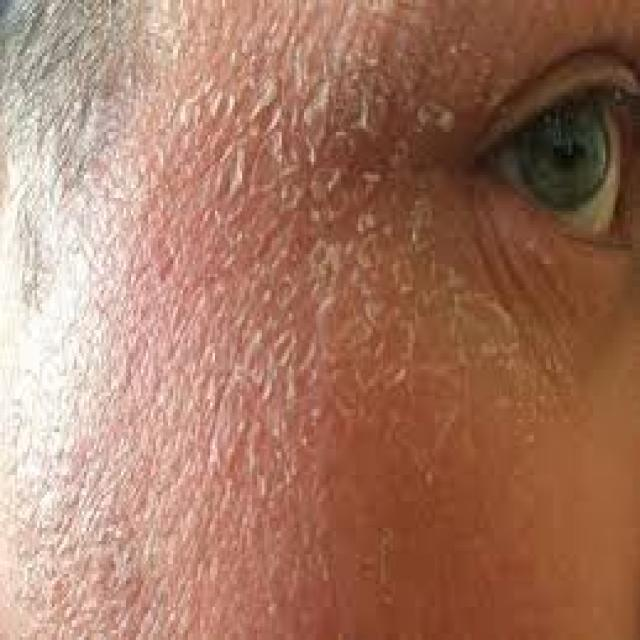Dry-Skin: (133, 20, 489, 528)
